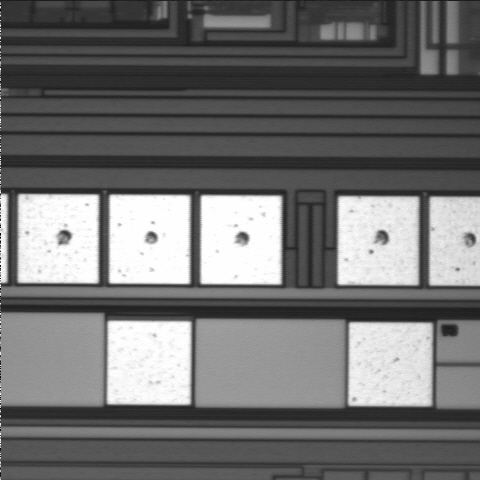pad: (200, 195, 282, 284), (18, 194, 99, 283), (109, 195, 190, 284), (338, 196, 419, 285), (107, 321, 191, 405), (348, 322, 432, 406)
